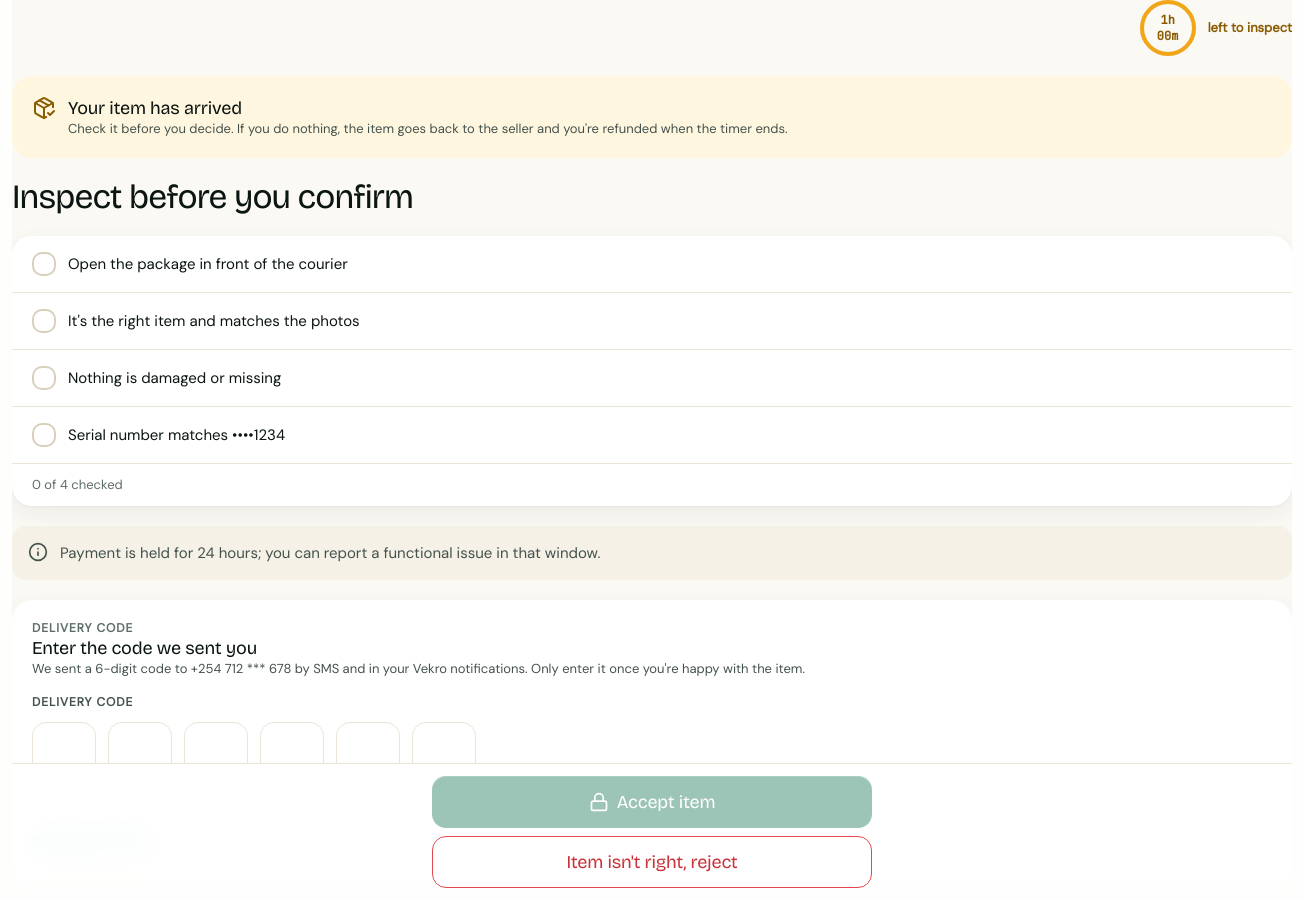
Test: B4 arrival and inspection › adds the serial number check for serial-numbered items, guidance only
expect the checkbox labelled "Serial number matches ••••1234" is shown: met, box [32, 423, 285, 447]
expect the text "0 of 4 checked" is shown: met, box [12, 463, 1292, 506]
Step 1. Click the checkbox labelled "Nothing is damaged or missing" → (157, 378), box [32, 366, 281, 390]
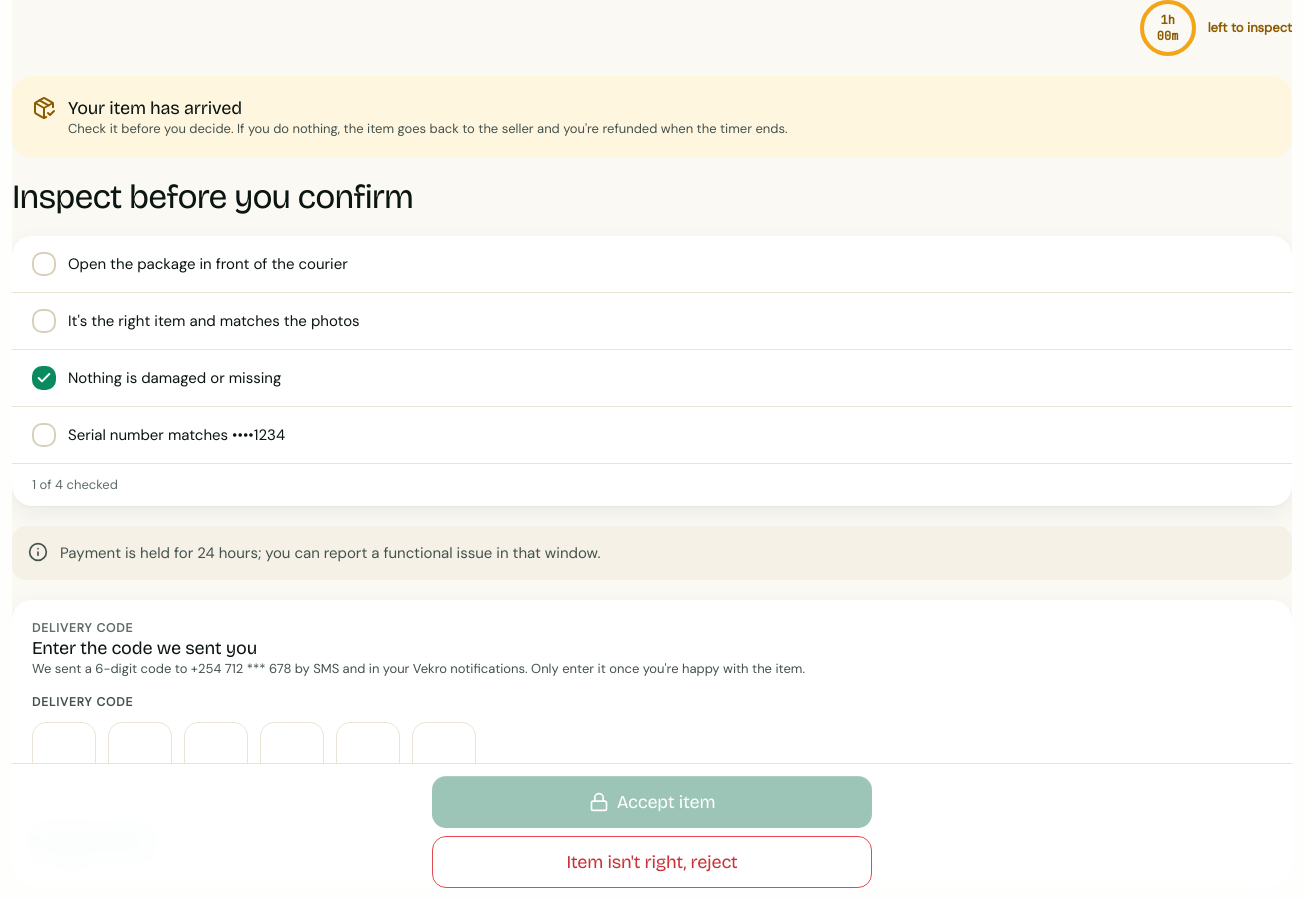
expect the text "Payment is held for 24 hours; you can report a functional issue in that window." is shown: met, box [60, 542, 600, 564]
expect the text "1 of 4 checked" is shown: met, box [12, 463, 1292, 506]
